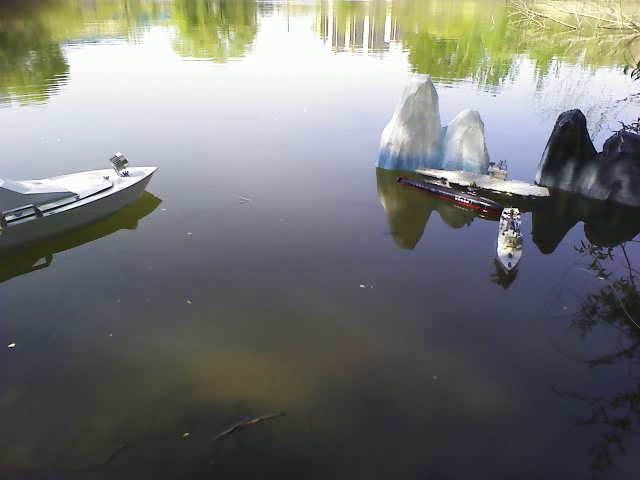aircraft_carrier: (417, 163, 554, 202)
boat: (7, 149, 161, 250)
iceberg: (374, 73, 494, 177)
rock: (542, 106, 637, 206)
submarine: (395, 175, 503, 221)
warship: (496, 205, 527, 277)
